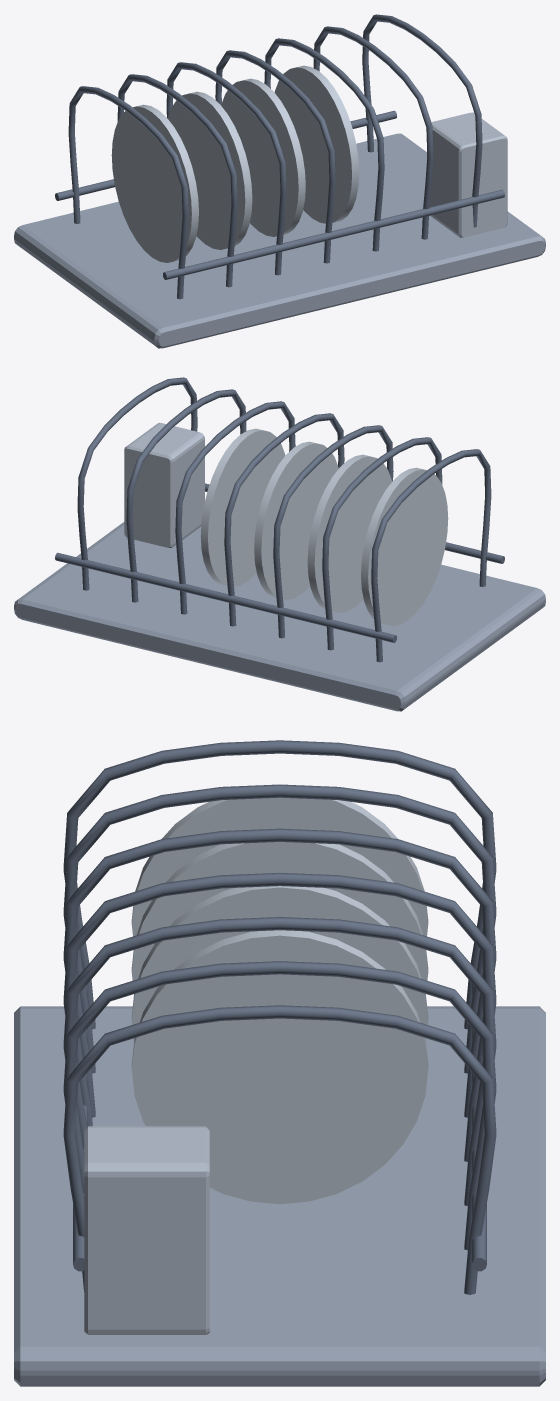
File: 碗碟沥水架-lite.glb
The picture shows the model from 3 angles, top to bottom: view 1: azimuth 30°, elevation 25°; view 2: azimuth 150°, elevation 25°; view 3: azimuth 270°, elevation 25°; orthographic projection. The views are drawn at different scales.
Parts seen in each view (by area): view 1: body, light, dark, soft; view 2: body, light, dark, soft; view 3: body, light, dark, soft.
Boxes of the visible parts, left/top/right/bottom form: body: left=14, top=133, right=545, bottom=348; light: left=111, top=65, right=359, bottom=262; dark: left=55, top=14, right=504, bottom=299; soft: left=427, top=112, right=507, bottom=237; body: left=14, top=522, right=545, bottom=711; light: left=200, top=428, right=448, bottom=625; dark: left=55, top=377, right=504, bottom=662; soft: left=124, top=423, right=204, bottom=547; body: left=14, top=1006, right=545, bottom=1386; light: left=131, top=797, right=428, bottom=1204; dark: left=63, top=740, right=496, bottom=1294; soft: left=84, top=1126, right=209, bottom=1334.
Bounding box in the file's own units: 0.44 × 0.1958 × 0.28.
